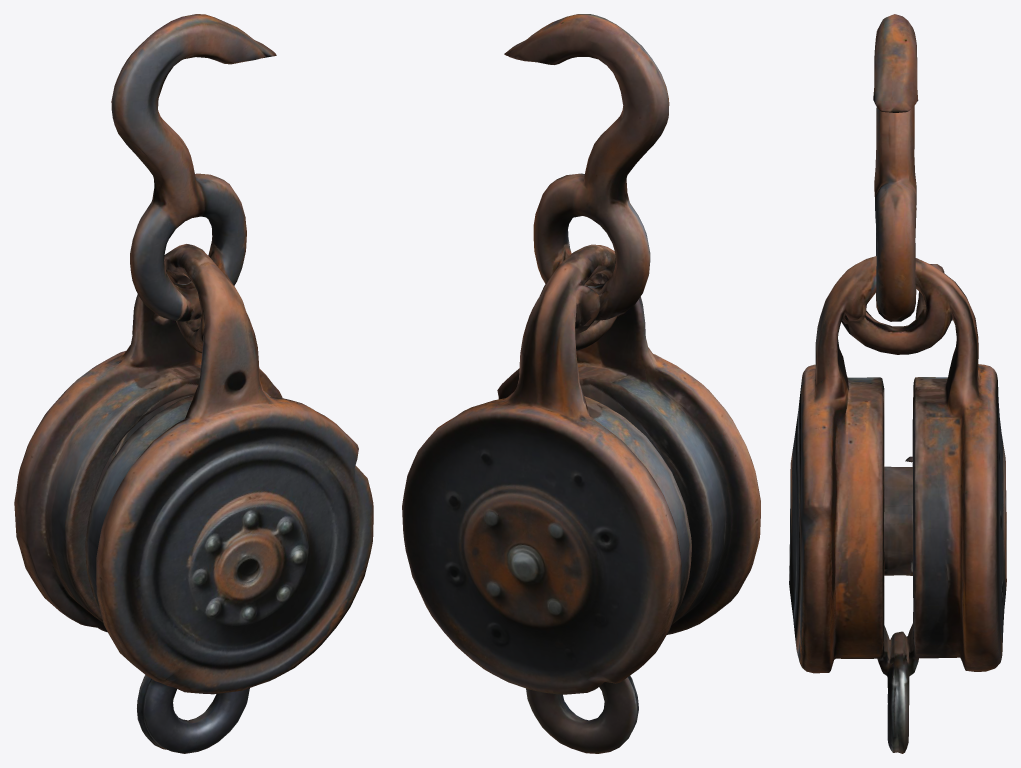
File: Nautical_Pulley_Syste_0223143928_texture.fbx
3 renders of one model, left to right at view 1: azimuth 30°, elevation 25°; view 2: azimuth 150°, elevation 25°; view 3: azimuth 270°, elevation 25°, orthographic.
Parts seen in each view (by area): view 1: Mesh1; view 2: Mesh1; view 3: Mesh1.
Part boxes in pixels (x1,y1,x2,y2): Mesh1: (14,14,373,753); Mesh1: (402,14,760,753); Mesh1: (789,14,1006,753).
Bounding box in the file's own units: 77.13 × 200 × 54.59.
Materials: 1 (1 with a texture image).
